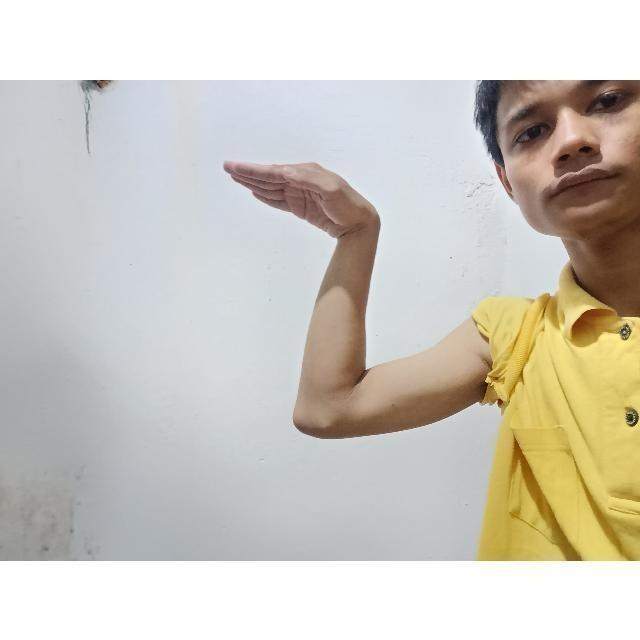Z: (196, 142, 492, 454)
